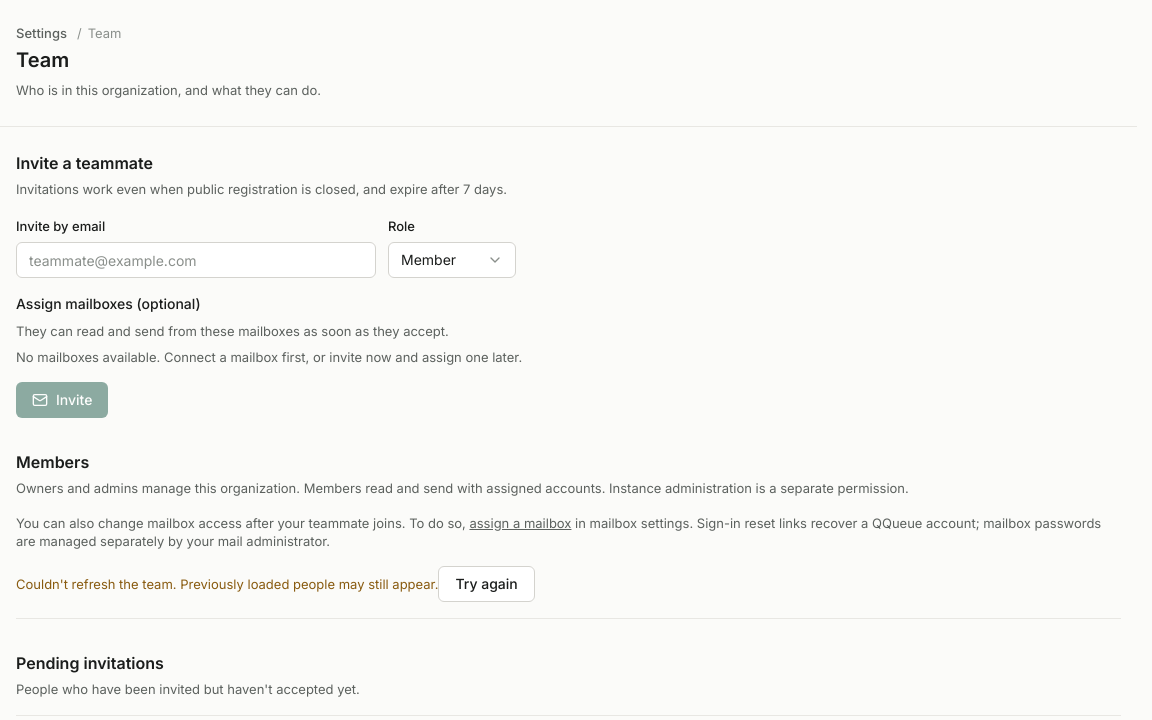
retries a failed team load instead of presenting an empty team as success
This screenshot has width=1152, height=720.
Expected: the message shows "Couldn't refresh the team", [16, 576, 438, 592]
Click the button "Try again": click(487, 584) [438, 566, 535, 602]
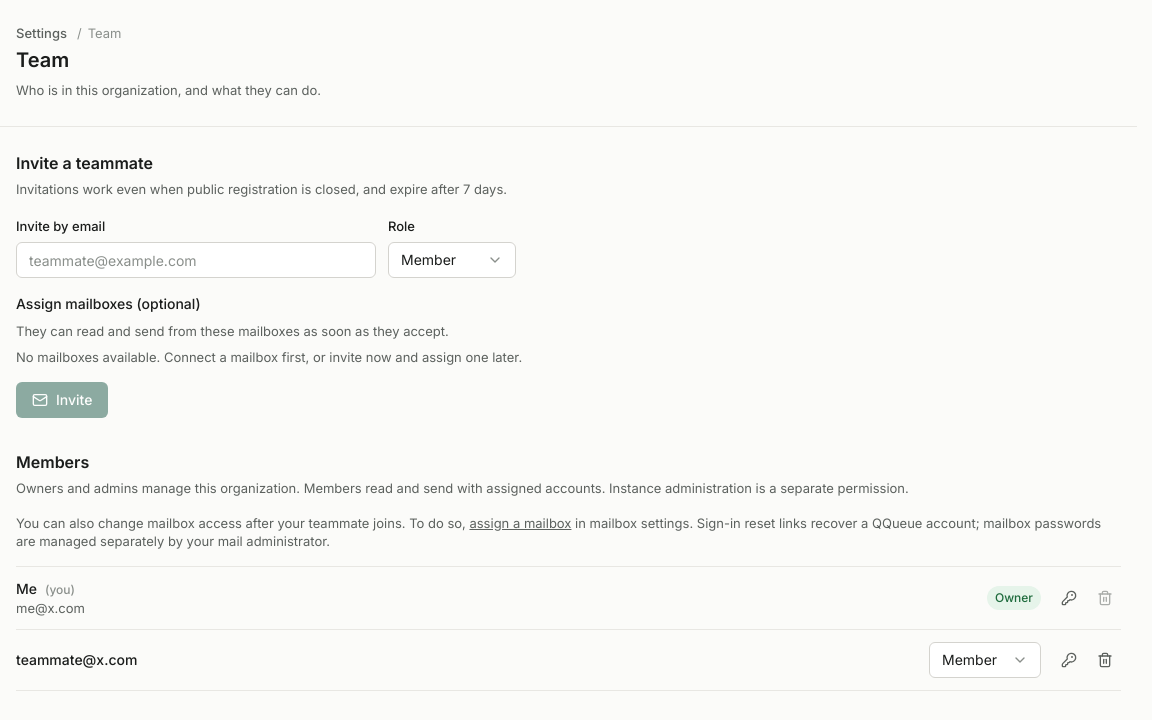
Expected: the text "teammate@x.com" is shown, [16, 651, 137, 668]
